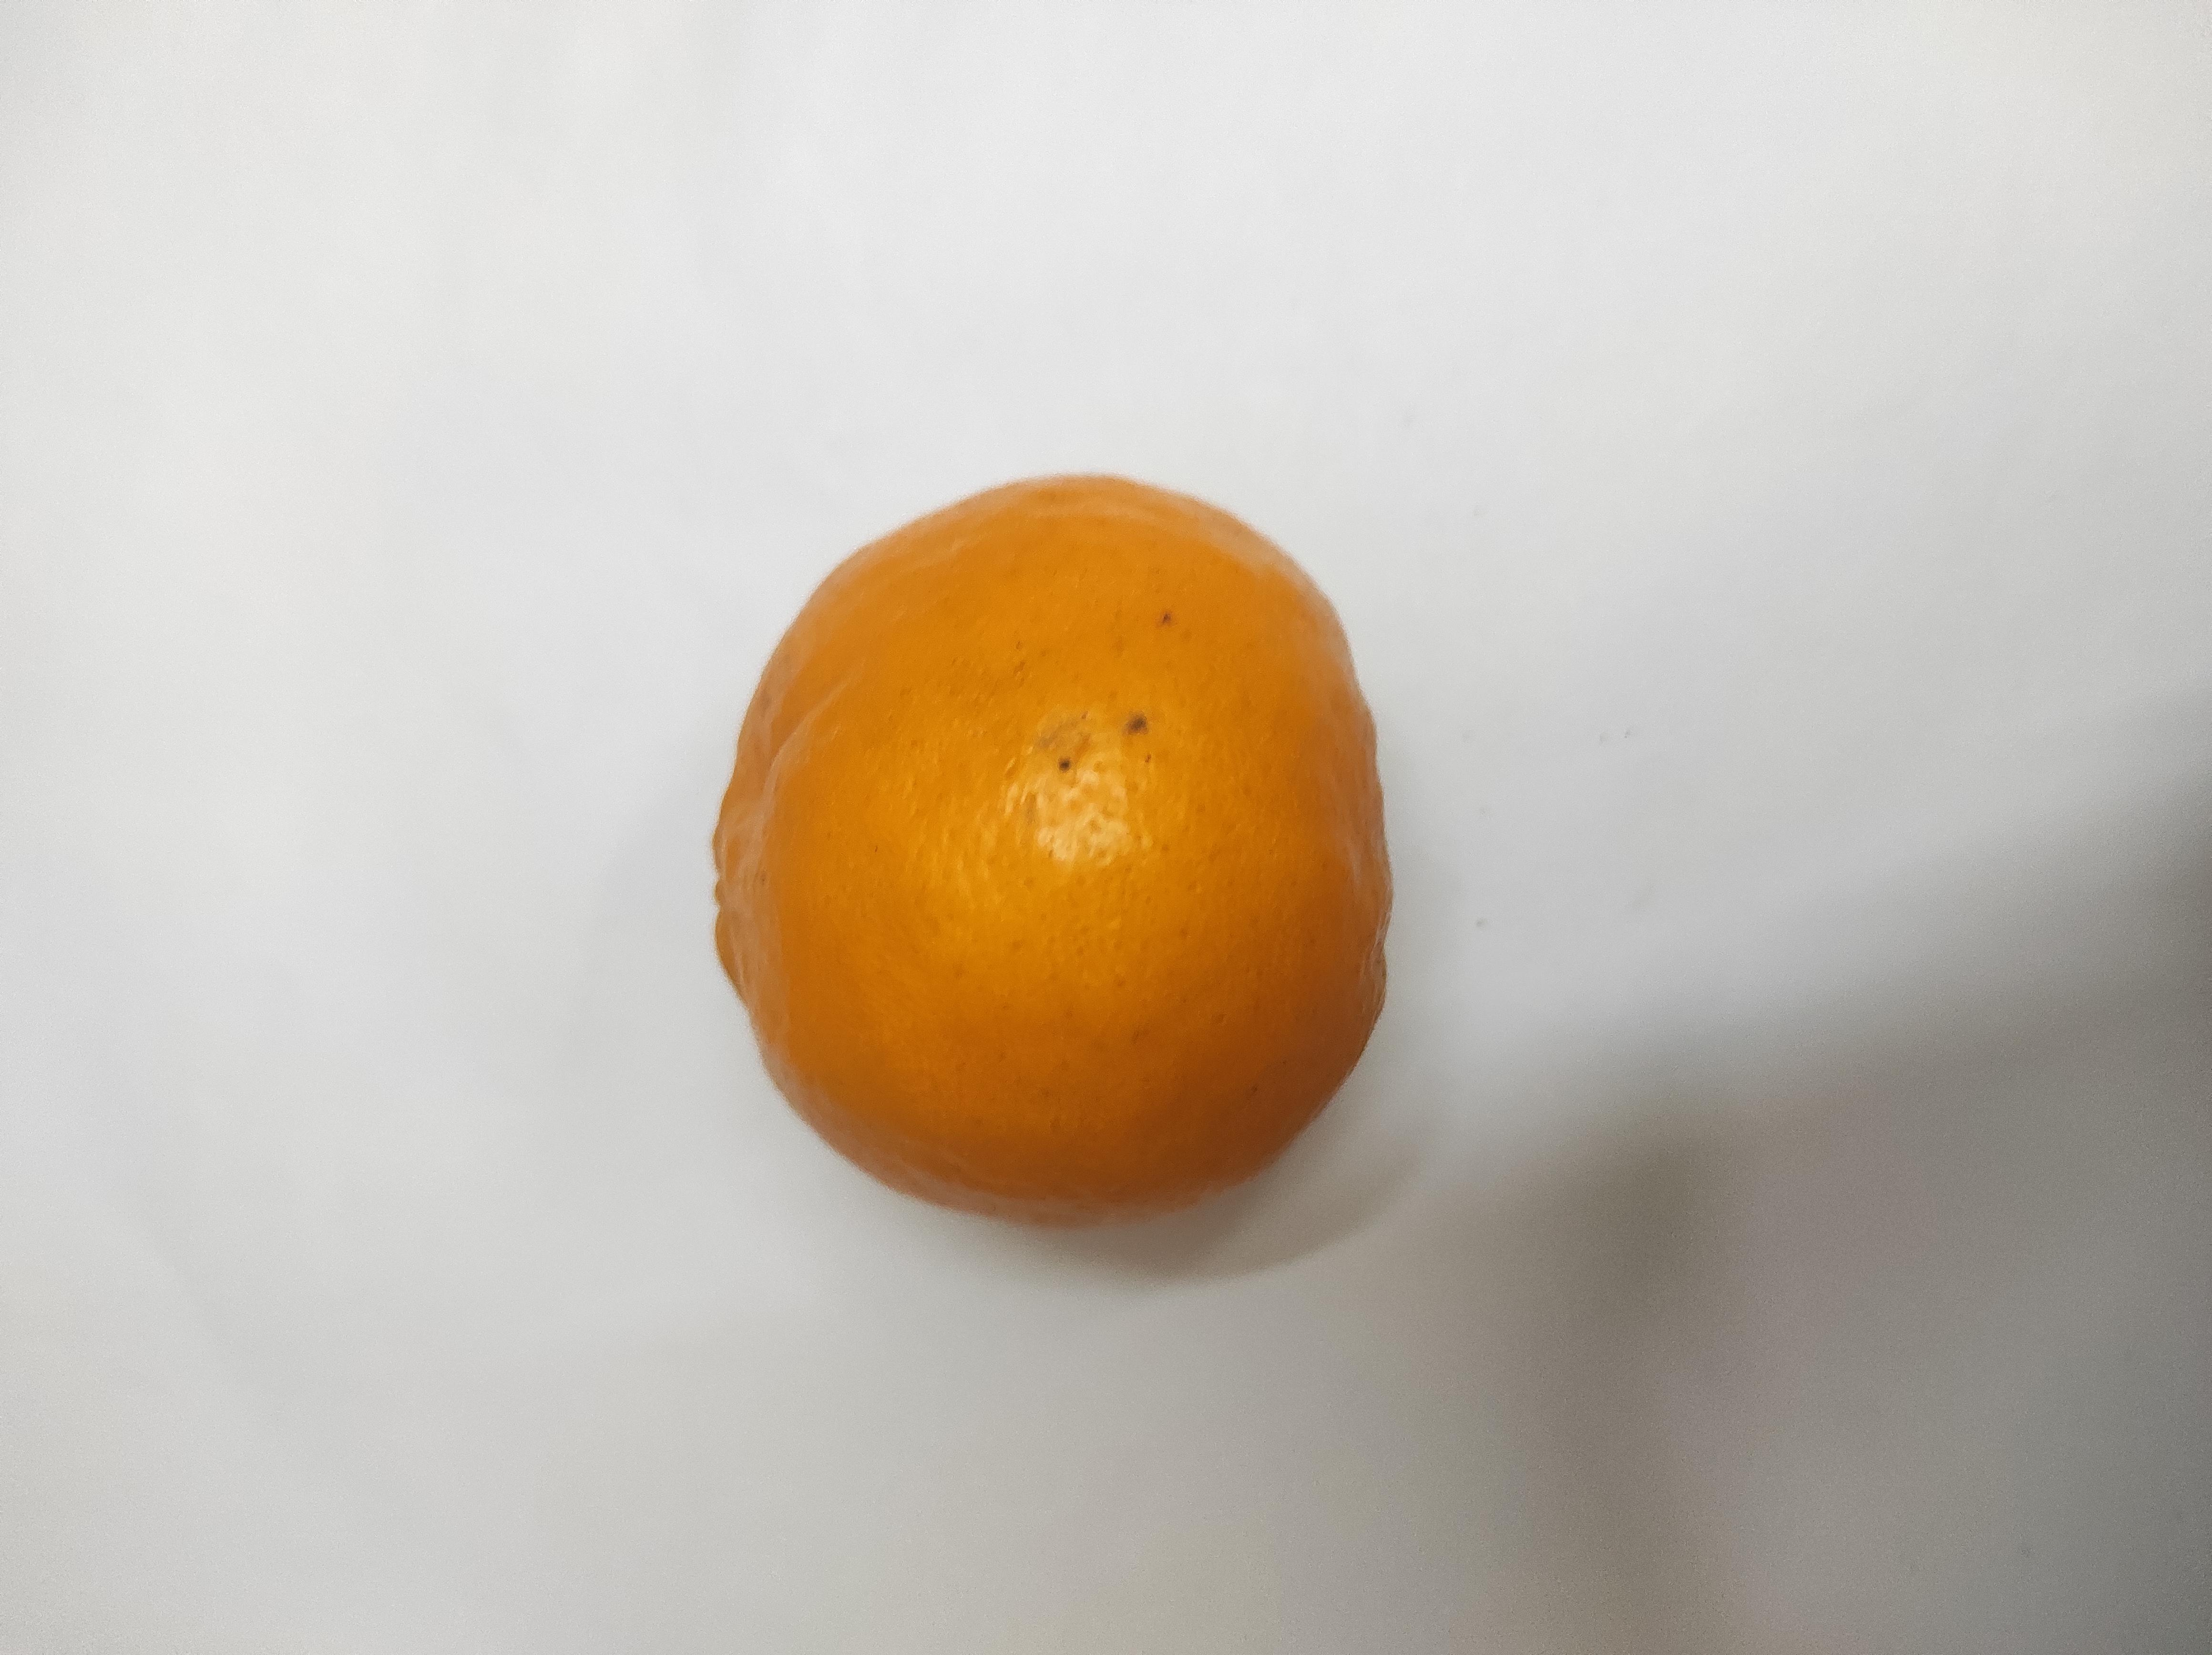Ripe: (706, 471, 1388, 1226)
